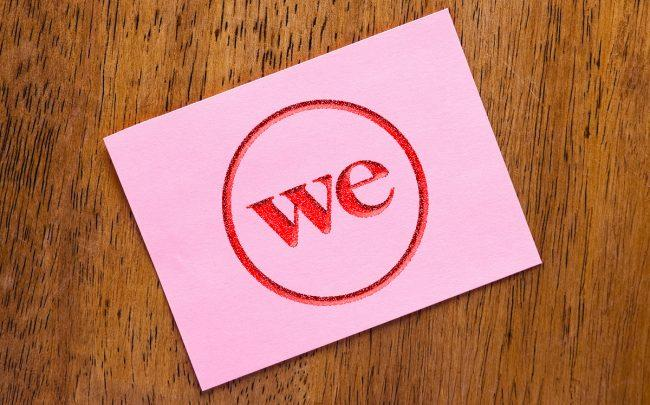wework: (219, 97, 433, 308)
